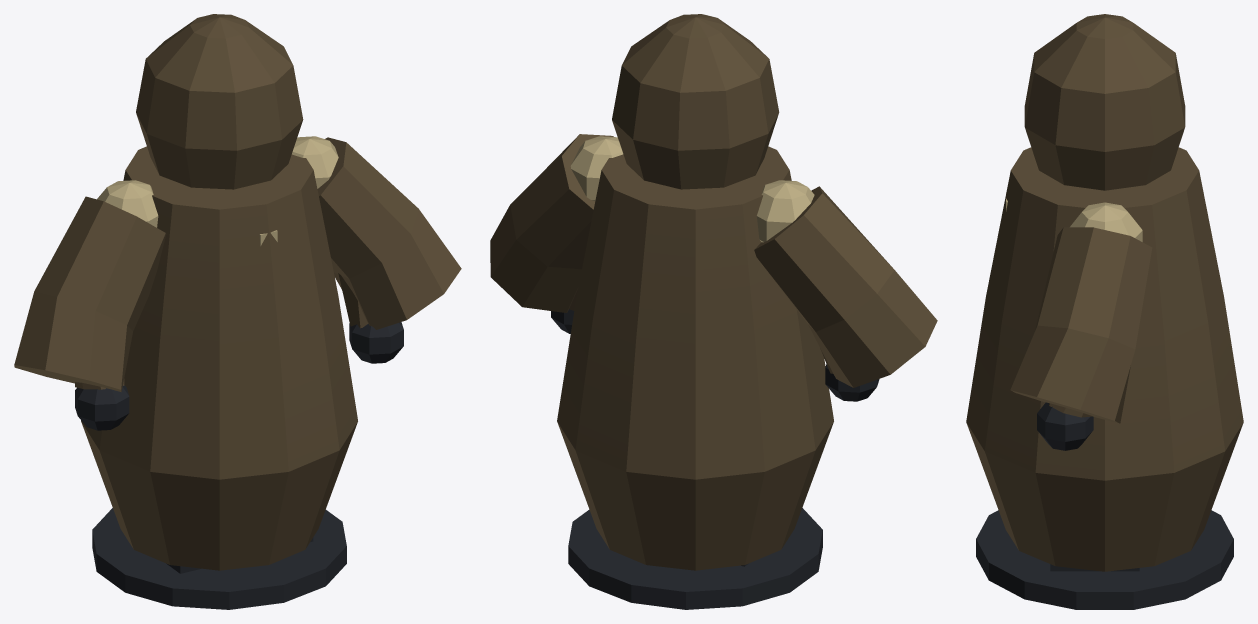
The model's file is jedi-master-robe.glb.
The picture shows the model from 3 angles, left to right: view 1: azimuth 30°, elevation 25°; view 2: azimuth 150°, elevation 25°; view 3: azimuth 270°, elevation 25°; orthographic projection.
Parts seen in each view (by area): view 1: m; view 2: m; view 3: m.
Boxes of the visible parts, x1,y1,x2,y2 form: m: (14,14,461,609); m: (490,14,937,609); m: (966,14,1243,609).
Size of the model in its own units: 0.4737 by 0.56 by 0.2613.
